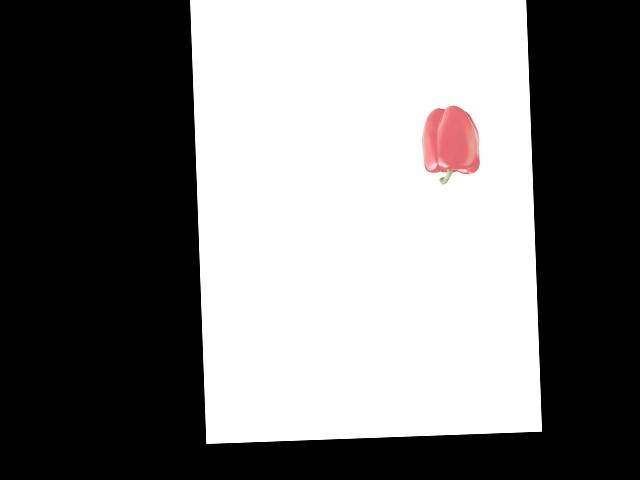bell_pepper: (417, 102, 484, 185)
